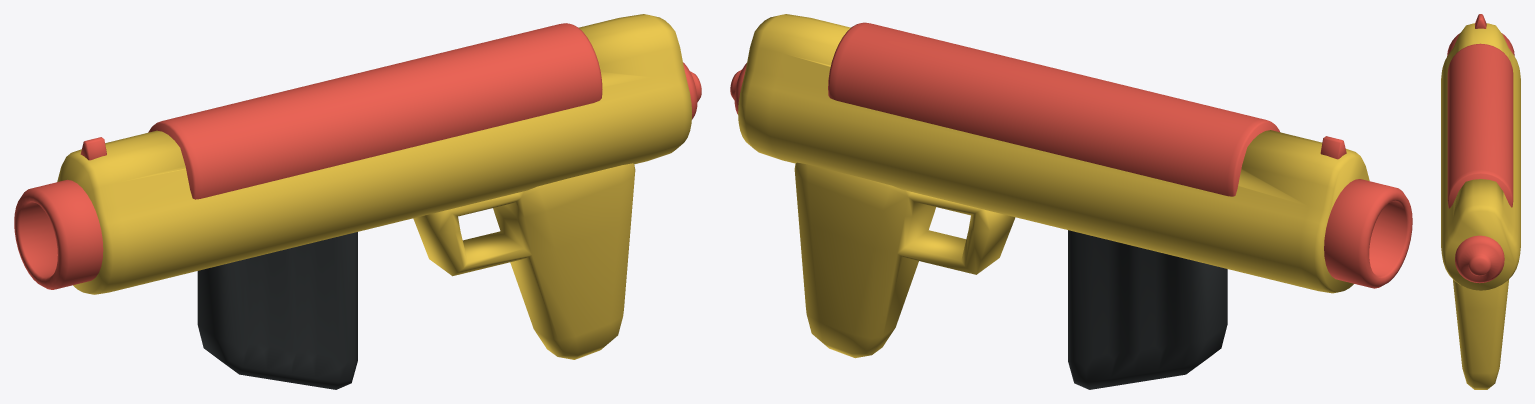
Rendered from Gun2.fbx.
3 views of the same model, side by side, from view 1: azimuth 30°, elevation 25°; view 2: azimuth 150°, elevation 25°; view 3: azimuth 270°, elevation 25° (orthographic). The views are drawn at different scales.
Parts seen in each view (by area): view 1: Cylinder, Cylinder.003, Cube, Cube.001, Cylinder.001; view 2: Cylinder, Cylinder.003, Cube, Cube.001, Cylinder.001; view 3: Cylinder.003, Cylinder, Cube, Cylinder.004, Cylinder.001, Cube.002.
Part boxes in pixels (x1=…): Cylinder: x1=57, y1=14, x2=692, y2=294; Cylinder.003: x1=148, y1=23, x2=602, y2=199; Cube: x1=413, y1=163, x2=635, y2=359; Cube.001: x1=197, y1=232, x2=357, y2=389; Cylinder.001: x1=14, y1=179, x2=103, y2=289; Cylinder: x1=738, y1=14, x2=1369, y2=293; Cylinder.003: x1=828, y1=22, x2=1279, y2=196; Cube: x1=794, y1=162, x2=1015, y2=358; Cube.001: x1=1068, y1=230, x2=1227, y2=389; Cylinder.001: x1=1324, y1=179, x2=1412, y2=288; Cylinder.003: x1=1447, y1=43, x2=1513, y2=208; Cylinder: x1=1441, y1=23, x2=1520, y2=290; Cube: x1=1453, y1=280, x2=1508, y2=389; Cylinder.004: x1=1455, y1=235, x2=1504, y2=283; Cylinder.001: x1=1447, y1=33, x2=1514, y2=56; Cube.002: x1=1474, y1=14, x2=1486, y2=28.
Size of the model in its own units: 938 by 454 by 151.
